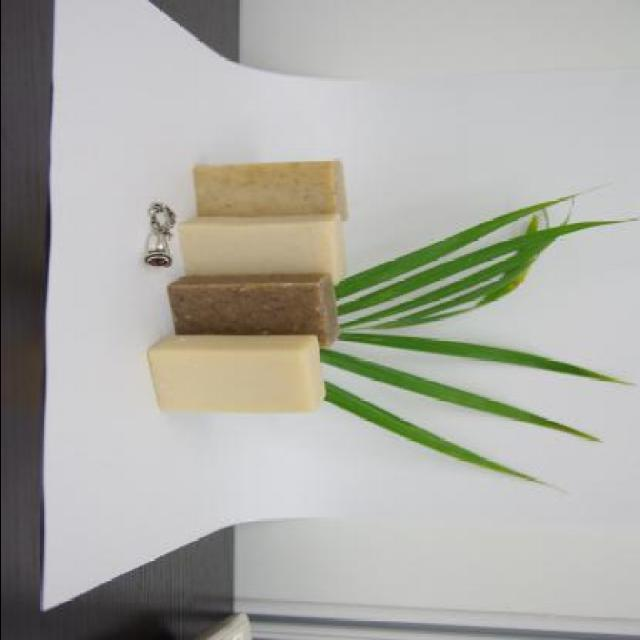Cheese: (137, 334, 321, 416), (168, 272, 346, 348), (178, 217, 348, 286), (192, 159, 350, 223)
